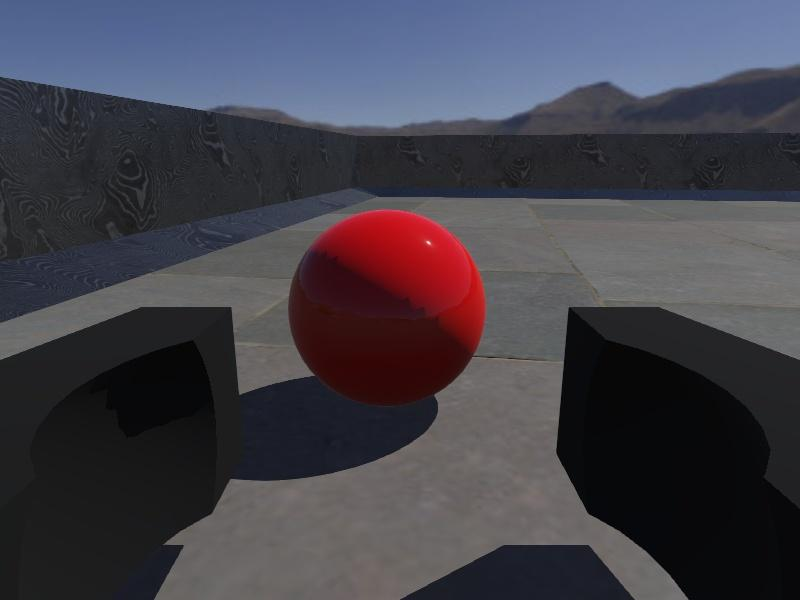red ball: (287, 208, 487, 411)
